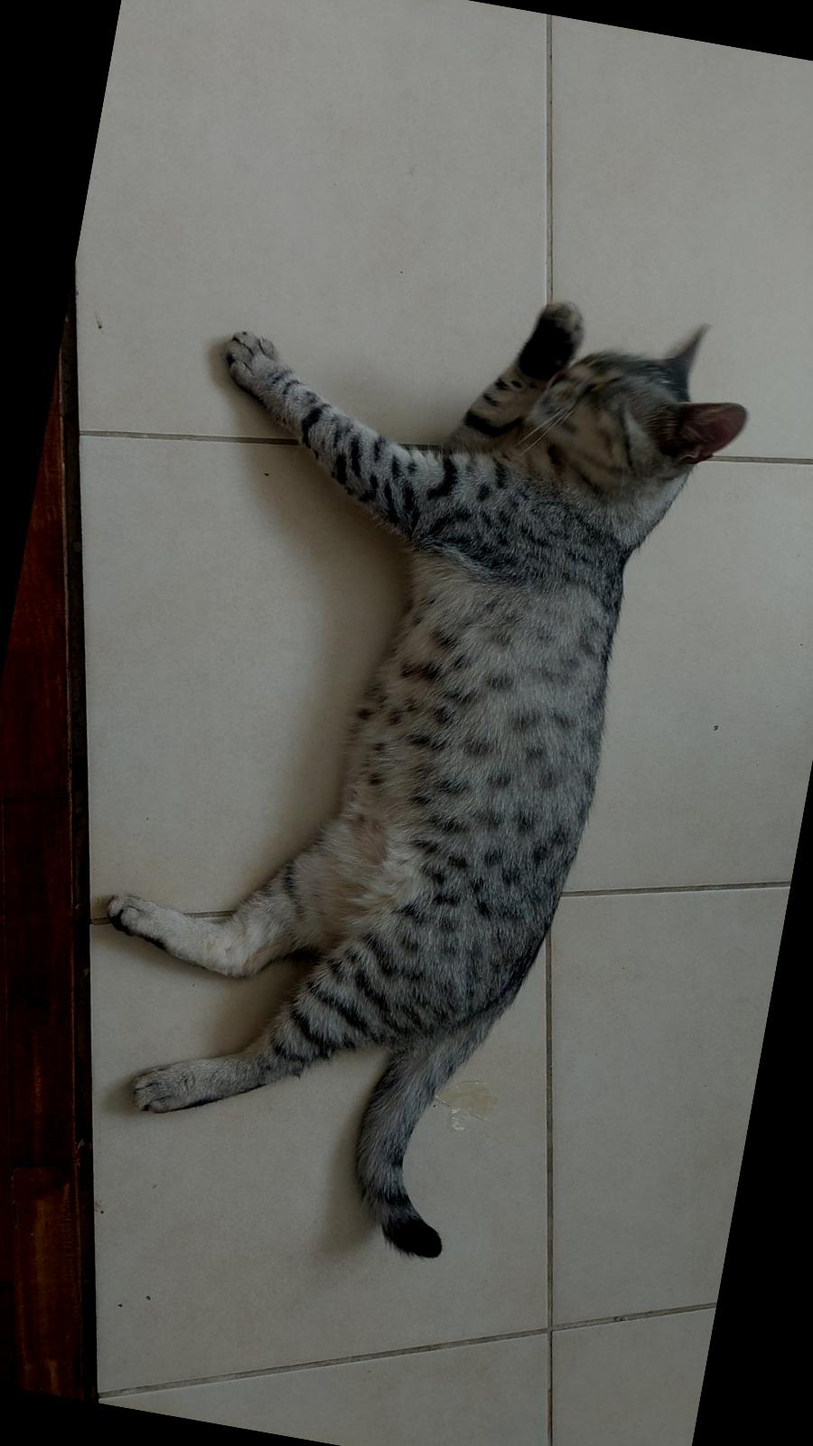macka: (54, 236, 763, 1287)
